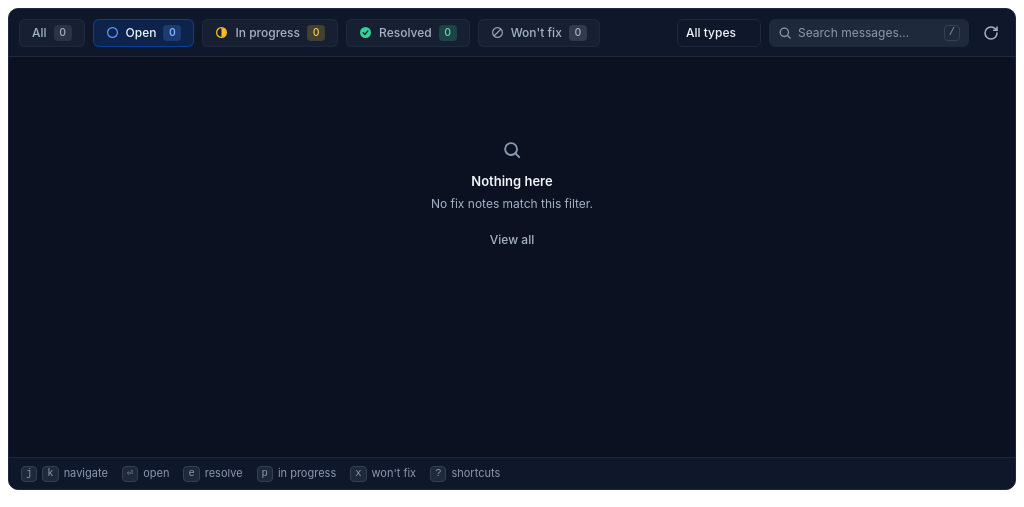
Test: InstaFixInbox — empty & error states › shows a custom empty state when provided and the project is truly empty
This screenshot has width=1024, height=507.
Click the button "View all": point(512, 240) [477,226,547,254]
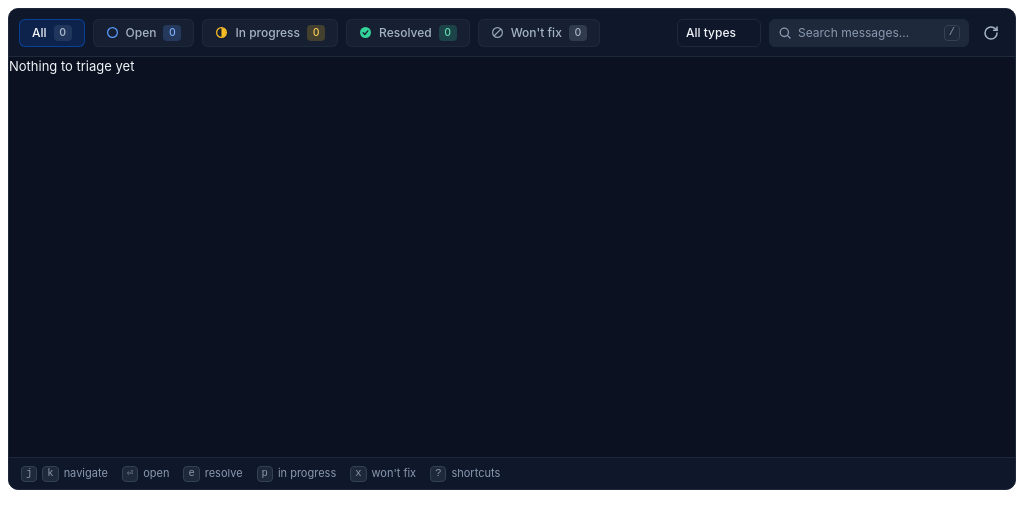
Expected: the text "Nothing to triage yet" is shown, [9,58,134,74]
